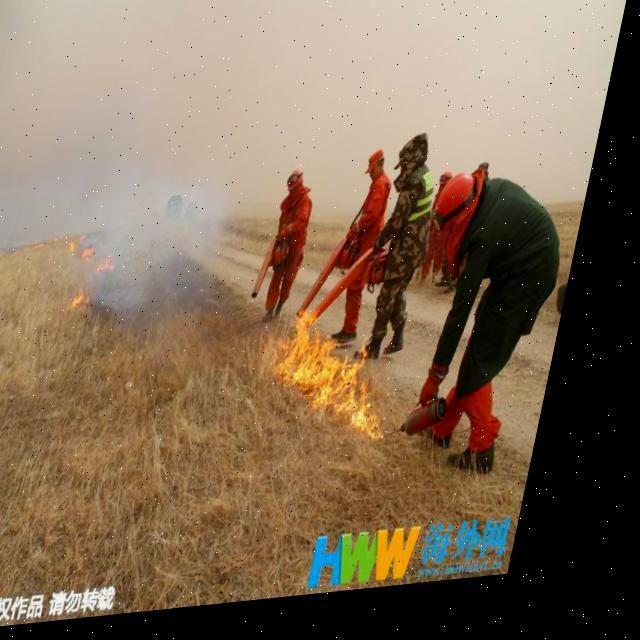Fire: (276, 302, 428, 468), (76, 231, 134, 282), (0, 240, 76, 264), (82, 294, 108, 316)
